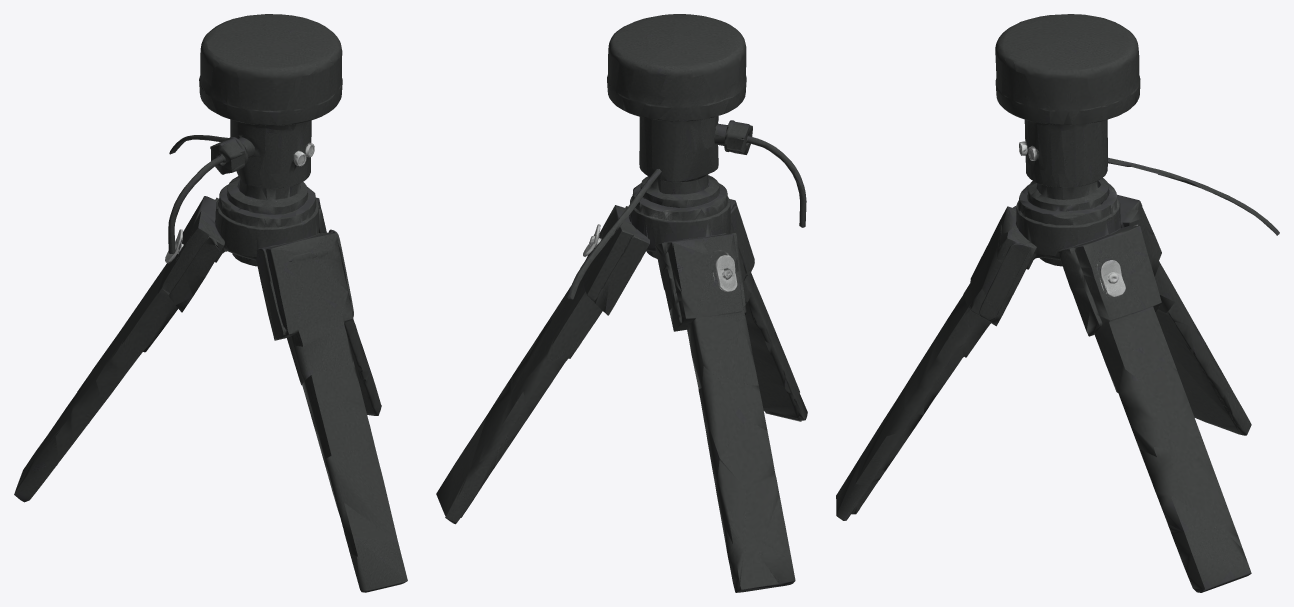
Rendered from tripod-base.glb.
The picture shows the model from 3 angles, left to right: view 1: azimuth 30°, elevation 25°; view 2: azimuth 150°, elevation 25°; view 3: azimuth 270°, elevation 25°; orthographic projection. The views are drawn at different scales.
Parts seen in each view (by area): view 1: mesh_node; view 2: mesh_node; view 3: mesh_node.
Boxes of the visible parts, x1,y1,x2,y2 form: mesh_node: [14, 14, 407, 592]; mesh_node: [436, 14, 807, 592]; mesh_node: [836, 14, 1279, 592].
Size of the model in its own units: 1.55 by 1.9 by 1.61.
Materials: 1 (1 with a texture image).
